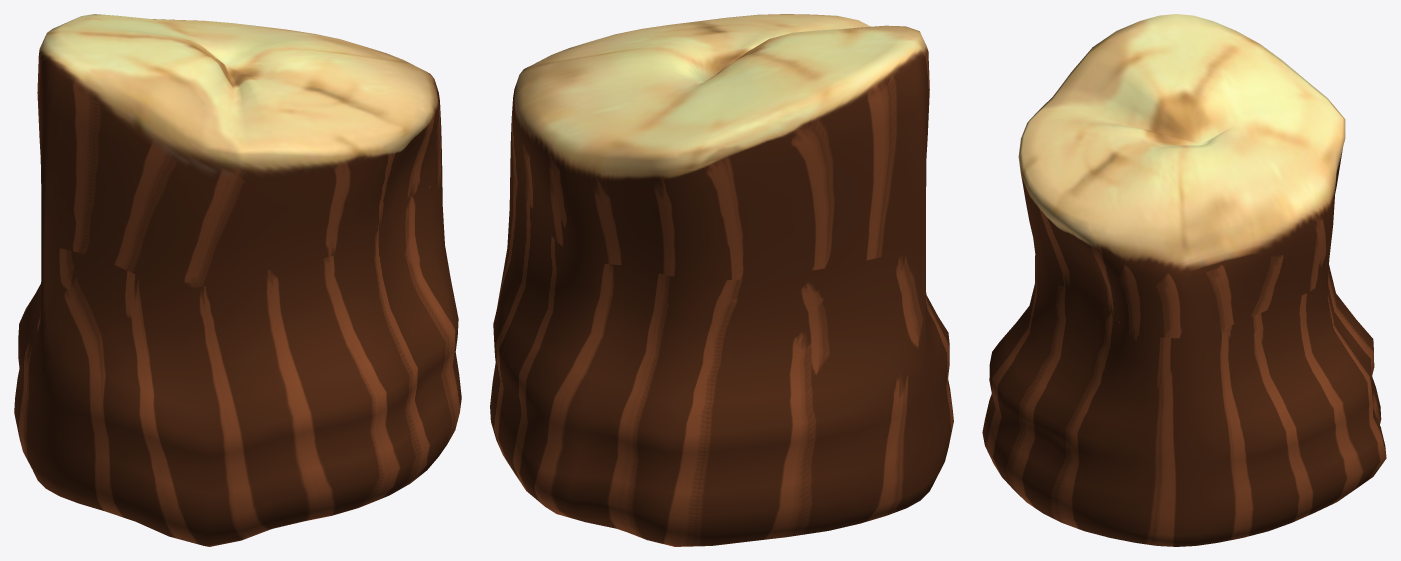
File: stump.fbx
3 views of the same model, side by side, from view 1: azimuth 30°, elevation 25°; view 2: azimuth 150°, elevation 25°; view 3: azimuth 270°, elevation 25° (orthographic). The views are drawn at different scales.
Visible parts, largest first — view 1: pCylinder1; view 2: pCylinder1; view 3: pCylinder1.
Boxes of the visible parts, x1=… form: pCylinder1: x1=14, y1=14, x2=461, y2=546; pCylinder1: x1=490, y1=14, x2=953, y2=546; pCylinder1: x1=982, y1=14, x2=1386, y2=546.
Bounding box in the file's own units: 0.0545 × 0.0602 × 0.0553.
